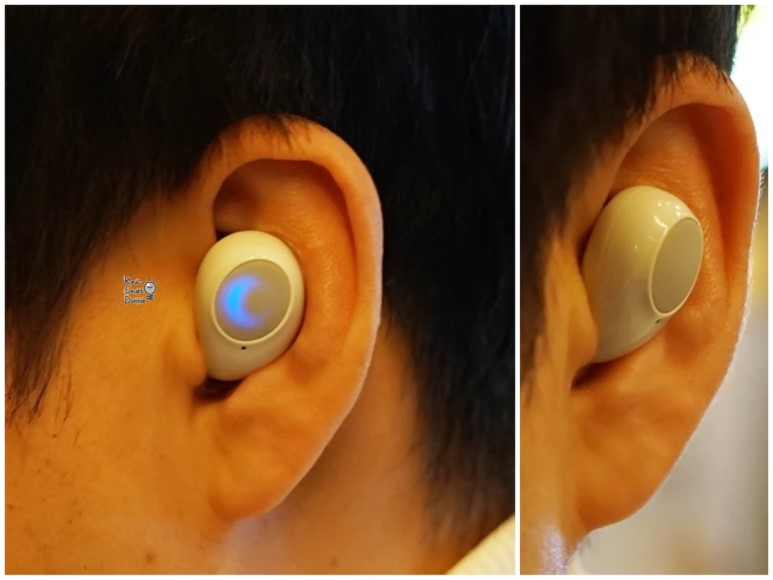earphone: (552, 52, 761, 529), (199, 113, 386, 521)
